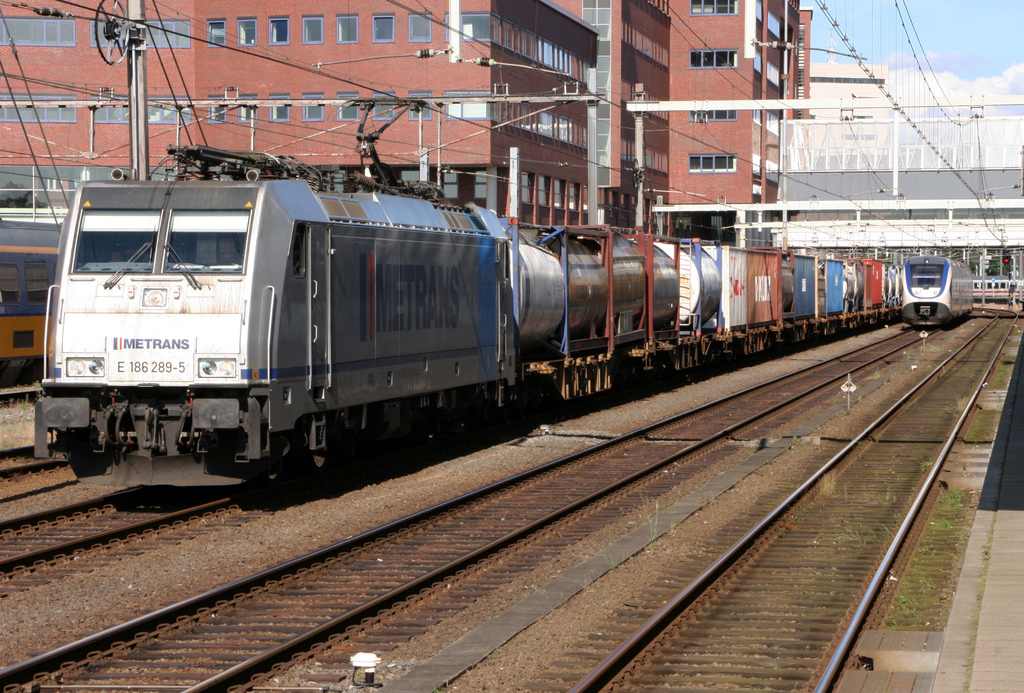train: (30, 90, 898, 498), (891, 246, 979, 335)
